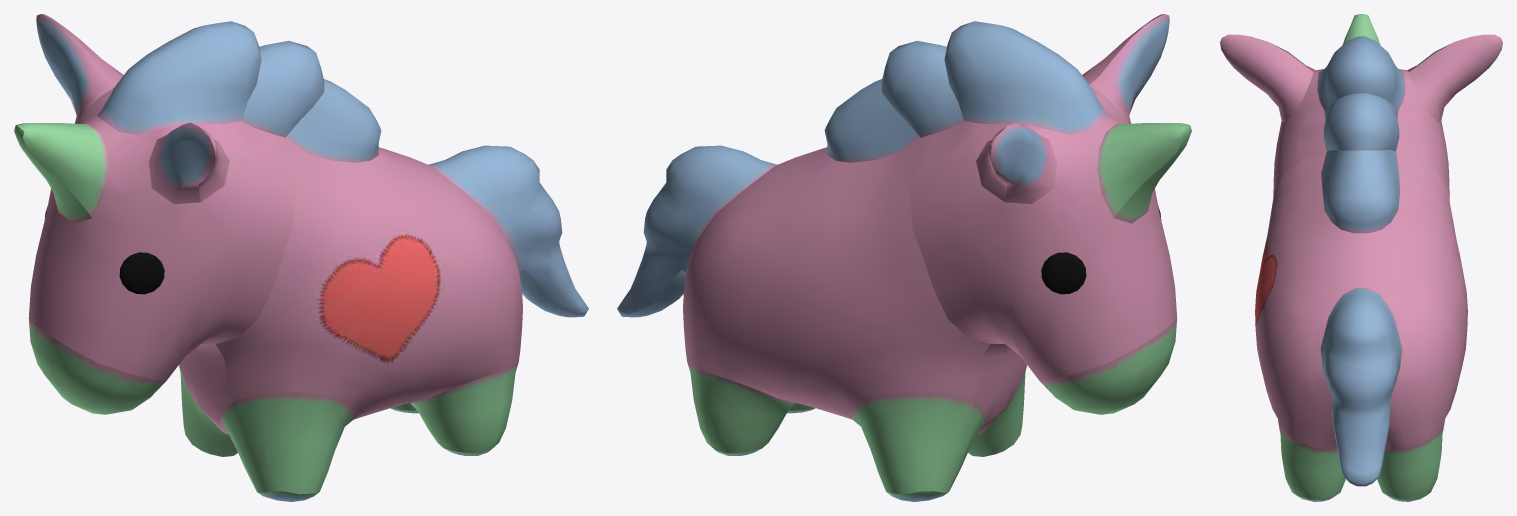
File: plush_unicorn.glb
3 renders of one model, left to right at view 1: azimuth 30°, elevation 25°; view 2: azimuth 150°, elevation 25°; view 3: azimuth 270°, elevation 25°, orthographic. The views are drawn at different scales.
Parts seen in each view (by area): view 1: Plush Unicorn; view 2: Plush Unicorn; view 3: Plush Unicorn.
Part boxes in pixels (box(x1,y1,x2,y2)): Plush Unicorn: box(14, 14, 588, 501); Plush Unicorn: box(617, 14, 1191, 501); Plush Unicorn: box(1220, 14, 1502, 501).
Size of the model in its own units: 0.4233 by 0.3263 by 0.2304.
Materials: 1 (1 with a texture image).
